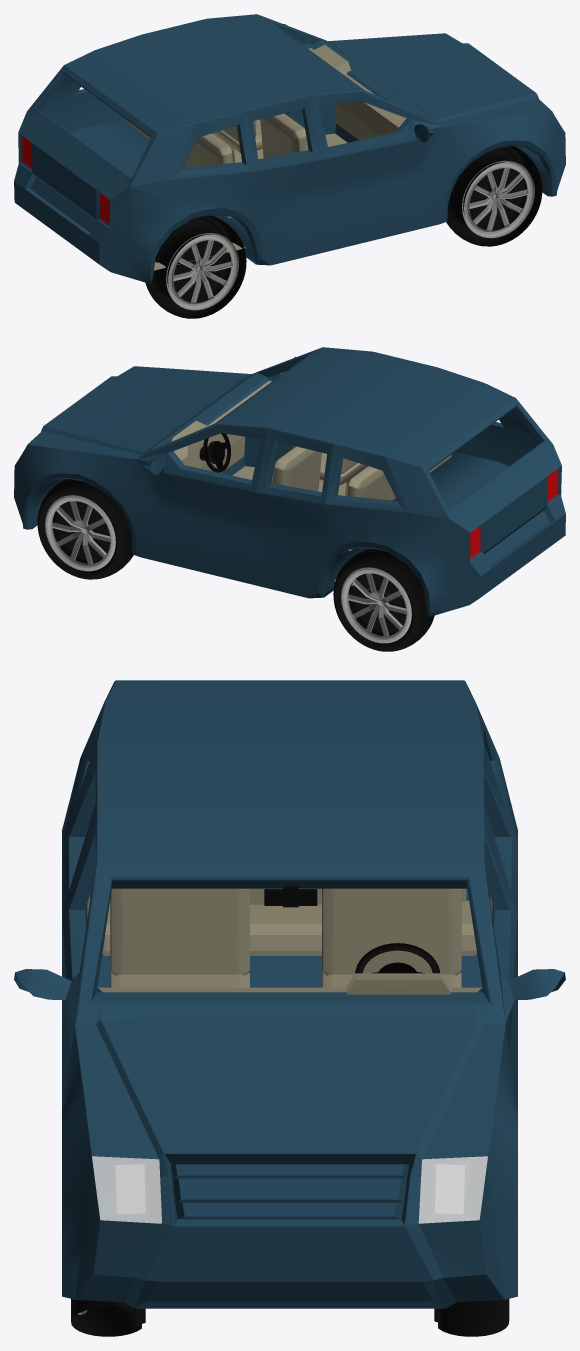
File: bp_scene_6_car.gltf
The picture shows the model from 3 angles, top to bottom: view 1: azimuth 30°, elevation 25°; view 2: azimuth 150°, elevation 25°; view 3: azimuth 270°, elevation 25°; orthographic projection. The views are drawn at different scales.
Visible parts, largest first — view 1: pasted__polySurface3|pasted__polySurface1Shape, pTorusShape10, pTorusShape6, pCubeShape18, pasted__pasted__pasted__pCubeShape23, pTorusShape7, pTorusShape4, pCylinderShape11, pasted__pCubeShape23, pCylinderShape7, pPlaneShape7, pasted__pasted__pasted__pCubeShape24; view 2: pasted__polySurface3|pasted__polySurface1Shape, pTorusShape8, pTorusShape2, pasted__pasted__pCubeShape23, pTorusShape5, pTorusShape9, pasted__pCubeShape23, pCylinderShape9, pCylinderShape5, pCubeShape18, pPlaneShape7, pasted__pasted__pasted__pasted__pCubeShape23; view 3: pasted__polySurface3|pasted__polySurface1Shape, pasted__pasted__pasted__pCubeShape23, pasted__pasted__pCubeShape23, pasted__pasted__pCubeShape25, rightLightCoverShape, leftLightCoverShape, pCubeShape18, pTorusShape2, pTorusShape6, pasted__pasted__pasted__pasted__pCubeShape23, pTorusShape3.
Part boxes in pixels (<box>): pasted__polySurface3|pasted__polySurface1Shape: <box>14,14,565,284</box>; pTorusShape10: <box>145,215,246,318</box>; pTorusShape6: <box>446,146,542,246</box>; pCubeShape18: <box>308,44,406,135</box>; pasted__pasted__pasted__pCubeShape23: <box>260,113,308,157</box>; pTorusShape7: <box>166,233,238,310</box>; pTorusShape4: <box>462,160,534,238</box>; pCylinderShape11: <box>174,240,227,300</box>; pasted__pCubeShape23: <box>128,121,234,167</box>; pCylinderShape7: <box>469,168,523,228</box>; pPlaneShape7: <box>154,103,379,270</box>; pasted__pasted__pasted__pCubeShape24: <box>213,119,262,153</box>; pasted__polySurface3|pasted__polySurface1Shape: <box>14,347,565,616</box>; pTorusShape8: <box>333,548,434,651</box>; pTorusShape2: <box>37,479,133,579</box>; pasted__pasted__pCubeShape23: <box>271,446,321,491</box>; pTorusShape5: <box>45,495,115,571</box>; pTorusShape9: <box>341,567,411,643</box>; pasted__pCubeShape23: <box>345,454,451,500</box>; pCylinderShape9: <box>352,573,406,633</box>; pCylinderShape5: <box>56,501,110,561</box>; pCubeShape18: <box>171,381,271,468</box>; pPlaneShape7: <box>200,436,402,597</box>; pasted__pasted__pasted__pasted__pCubeShape23: <box>319,452,366,486</box>; pasted__polySurface3|pasted__polySurface1Shape: <box>14,680,565,1308</box>; pasted__pasted__pasted__pCubeShape23: <box>110,888,249,975</box>; pasted__pasted__pCubeShape23: <box>322,888,461,975</box>; pasted__pasted__pCubeShape25: <box>102,900,477,955</box>; rightLightCoverShape: <box>92,1156,161,1223</box>; leftLightCoverShape: <box>418,1156,487,1223</box>; pCubeShape18: <box>98,973,481,994</box>; pTorusShape2: <box>434,1299,509,1336</box>; pTorusShape6: <box>71,1299,145,1336</box>; pasted__pasted__pasted__pasted__pCubeShape23: <box>110,972,249,987</box>; pTorusShape3: <box>355,943,439,973</box>.
Size of the model in its own units: 1.26 by 0.5037 by 0.7001.
